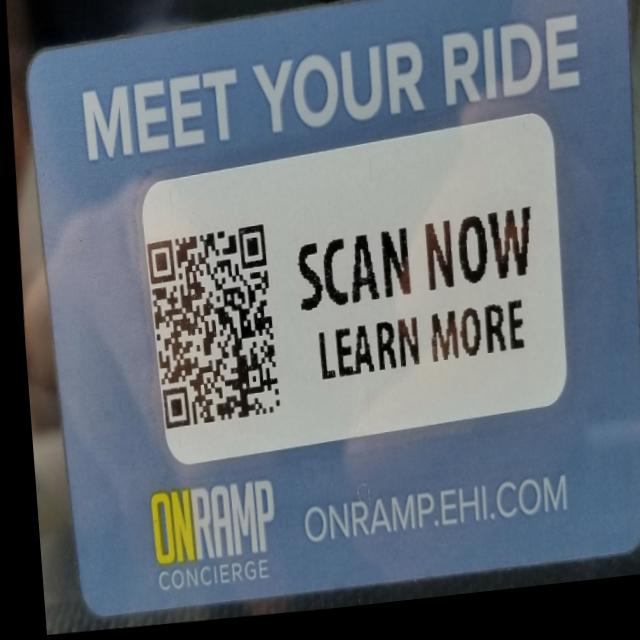QR_CODE: (122, 200, 302, 458)
